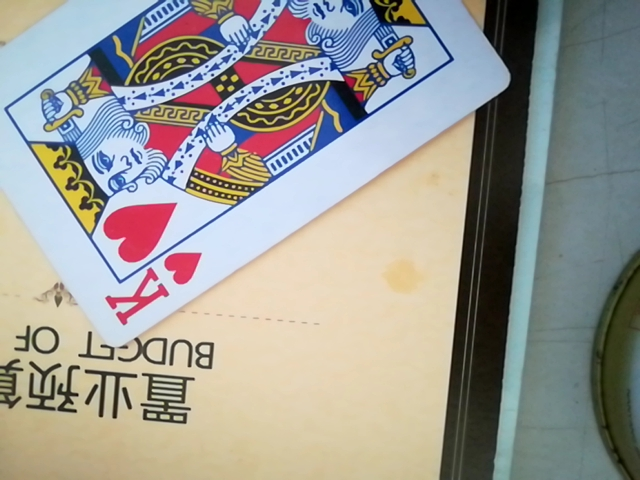hx k: (0, 3, 510, 348)
